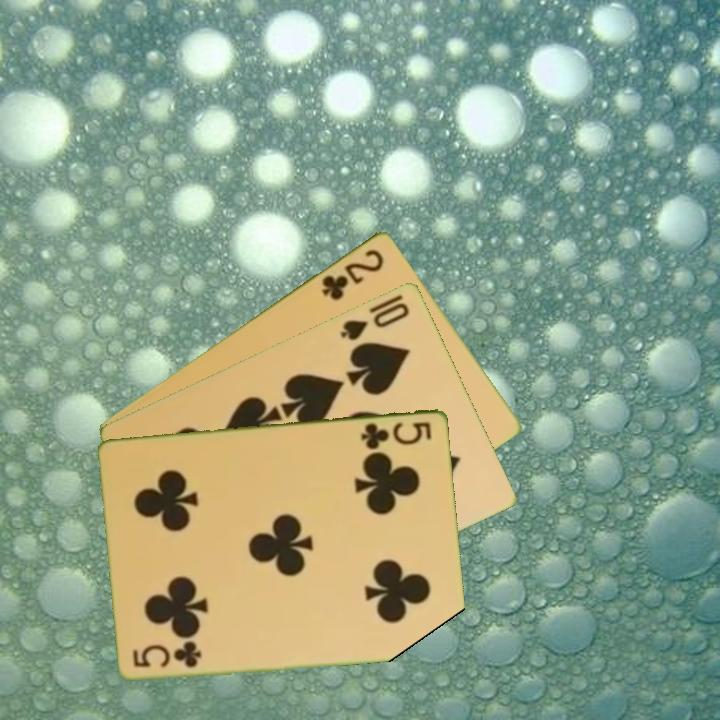10s: (337, 298, 413, 343)
2c: (318, 245, 387, 303)
5c: (357, 418, 435, 452), (129, 640, 204, 670)
